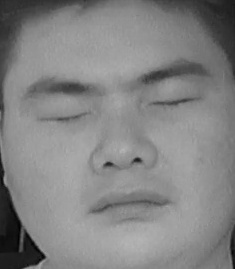blink: (39, 94, 94, 135), (151, 85, 200, 124)
mouth: (88, 182, 174, 231)
